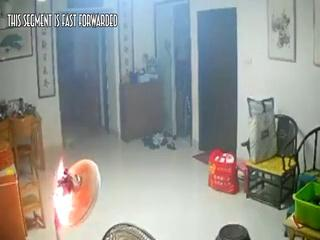Fire: (50, 138, 87, 236)
